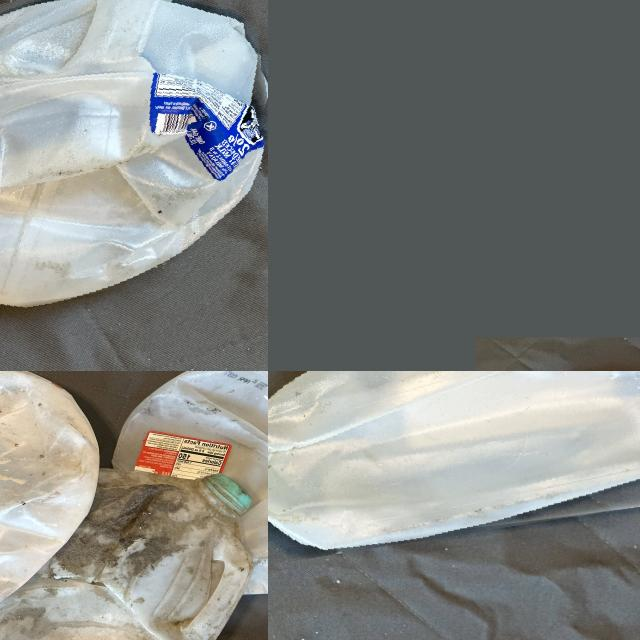milk-jug: (0, 0, 268, 317), (268, 371, 640, 554), (0, 463, 255, 640), (103, 371, 268, 595), (0, 371, 92, 618)
